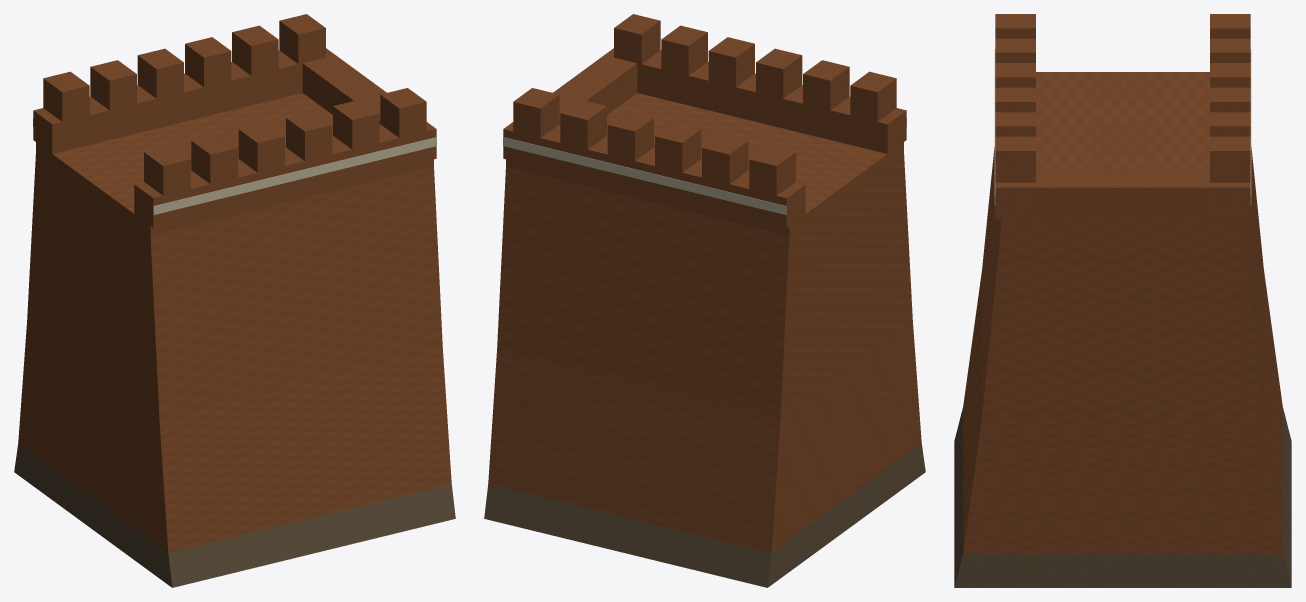
File: Berber_Wall_Age2_end_6m.fbx
The picture shows the model from 3 angles, left to right: view 1: azimuth 30°, elevation 25°; view 2: azimuth 150°, elevation 25°; view 3: azimuth 270°, elevation 25°; orthographic projection. The views are drawn at different scales.
Parts seen in each view (by area): view 1: end_6m_rammed_curtain_upper, end_6m_rammed_curtain_lower, end_6m_battered_stone_foot, end_6m_walk_deck, end_6m_parapet.001, end_6m_parapet, end_6m_terminal_parapet, end_6m_owner_painted_band, end_6m_merlon.002, end_6m_merlon.006, end_6m_merlon.007, end_6m_merlon.004 (+8 smaller); view 2: end_6m_rammed_curtain_upper, end_6m_rammed_curtain_lower, end_6m_battered_stone_foot, end_6m_walk_deck, end_6m_parapet, end_6m_parapet.001, end_6m_terminal_parapet, end_6m_owner_painted_band.001, end_6m_merlon, end_6m_merlon.008, end_6m_merlon.001, end_6m_merlon.005 (+8 smaller); view 3: end_6m_rammed_curtain_upper, end_6m_rammed_curtain_lower, end_6m_walk_deck, end_6m_battered_stone_foot, end_6m_terminal_parapet, end_6m_merlon.005, end_6m_merlon.011, end_6m_parapet, end_6m_parapet.001, end_6m_merlon.003, end_6m_merlon.009, end_6m_merlon (+7 smaller).
Part boxes in pixels (left/top/right/bottom): end_6m_rammed_curtain_upper: left=27, top=152, right=442, bottom=417; end_6m_rammed_curtain_lower: left=18, top=321, right=451, bottom=552; end_6m_battered_stone_foot: left=14, top=443, right=455, bottom=587; end_6m_walk_deck: left=36, top=93, right=433, bottom=235; end_6m_parapet.001: left=33, top=48, right=335, bottom=153; end_6m_parapet: left=134, top=122, right=436, bottom=227; end_6m_terminal_parapet: left=302, top=55, right=386, bottom=123; end_6m_owner_painted_band: left=153, top=137, right=436, bottom=215; end_6m_merlon.002: left=238, top=122, right=284, bottom=172; end_6m_merlon.006: left=43, top=71, right=89, bottom=121; end_6m_merlon.007: left=90, top=60, right=136, bottom=110; end_6m_merlon.004: left=333, top=99, right=379, bottom=149; end_6m_rammed_curtain_upper: left=497, top=152, right=912, bottom=417; end_6m_rammed_curtain_lower: left=488, top=321, right=921, bottom=552; end_6m_battered_stone_foot: left=484, top=443, right=925, bottom=587; end_6m_walk_deck: left=506, top=93, right=903, bottom=235; end_6m_parapet: left=604, top=48, right=906, bottom=153; end_6m_parapet.001: left=503, top=122, right=805, bottom=227; end_6m_terminal_parapet: left=553, top=55, right=637, bottom=123; end_6m_owner_painted_band.001: left=503, top=137, right=786, bottom=215; end_6m_merlon: left=850, top=71, right=896, bottom=121; end_6m_merlon.008: left=655, top=122, right=701, bottom=172; end_6m_merlon.001: left=803, top=60, right=849, bottom=110; end_6m_merlon.005: left=614, top=14, right=660, bottom=64; end_6m_rammed_curtain_upper: left=982, top=147, right=1263, bottom=416; end_6m_rammed_curtain_lower: left=963, top=271, right=1282, bottom=553; end_6m_walk_deck: left=1001, top=72, right=1244, bottom=229; end_6m_battered_stone_foot: left=954, top=407, right=1291, bottom=587; end_6m_terminal_parapet: left=1036, top=170, right=1209, bottom=219; end_6m_merlon.005: left=995, top=136, right=1035, bottom=182; end_6m_merlon.011: left=1210, top=136, right=1250, bottom=182; end_6m_parapet: left=995, top=182, right=1035, bottom=219; end_6m_parapet.001: left=1210, top=182, right=1250, bottom=219; end_6m_merlon.003: left=995, top=87, right=1035, bottom=112; end_6m_merlon.009: left=1210, top=87, right=1250, bottom=112; end_6m_merlon: left=995, top=14, right=1035, bottom=38.
Size of the model in its own units: 600 by 820 by 580.
Materials: 3 (3 with a texture image).
